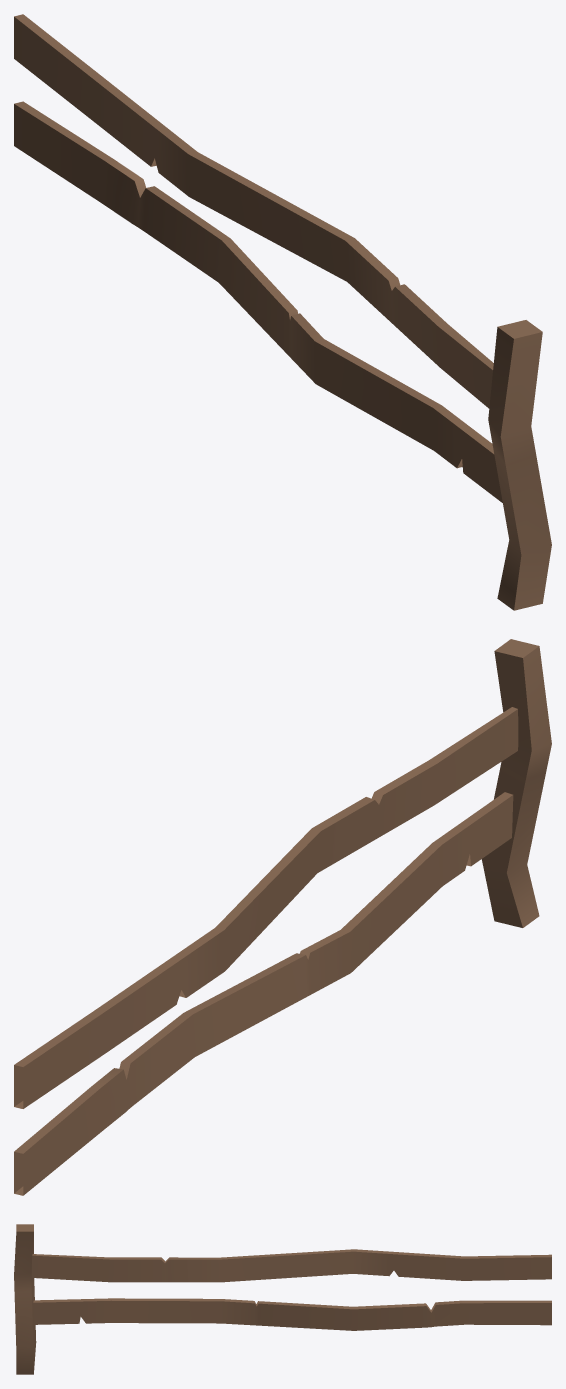
File: SM_Fence.fbx
The picture shows the model from 3 angles, top to bottom: view 1: azimuth 30°, elevation 25°; view 2: azimuth 150°, elevation 25°; view 3: azimuth 270°, elevation 25°; orthographic projection. The views are drawn at different scales.
Visible parts, largest first — view 1: SM_Fence; view 2: SM_Fence; view 3: SM_Fence.
Part boxes in pixels (x1,y1,x2,y2): SM_Fence: (14,14,551,610); SM_Fence: (14,639,551,1195); SM_Fence: (14,1224,551,1374).
Bounding box in the file's own units: 0.3177 × 1.5 × 5.13.
